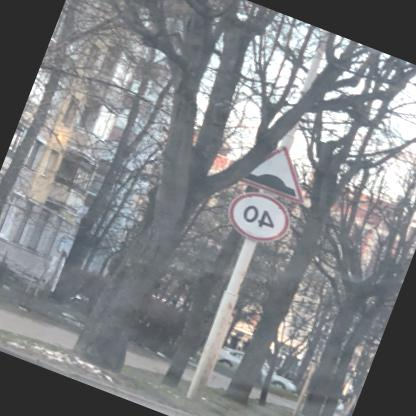speedlimit: (224, 184, 298, 250)
